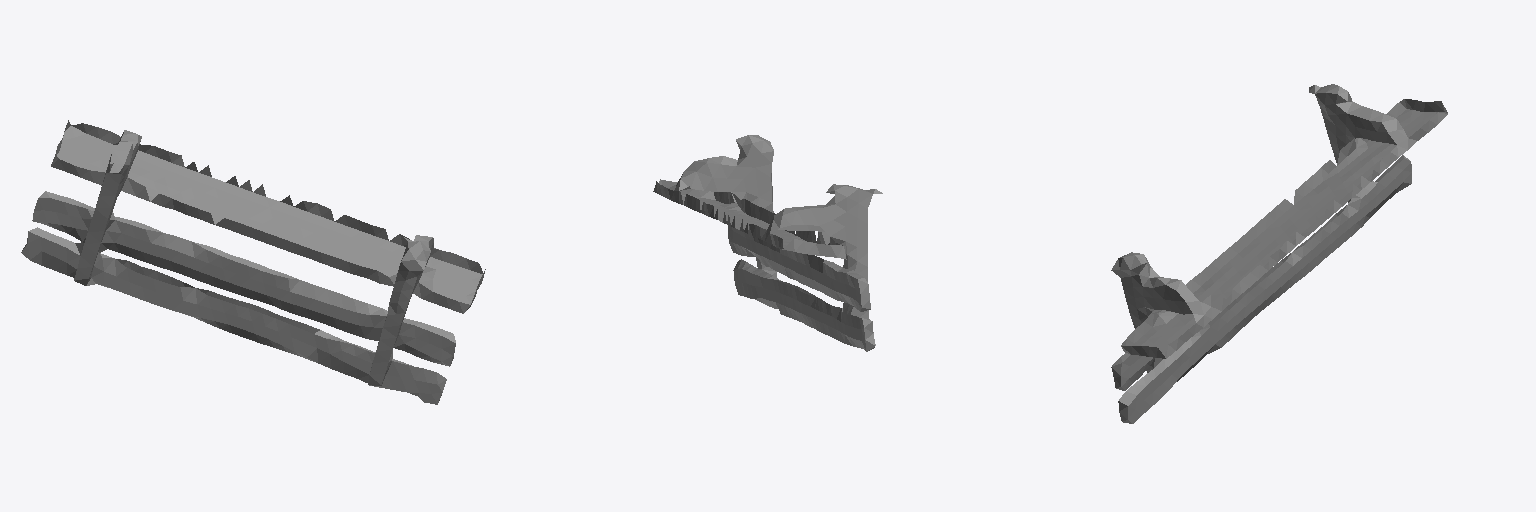
File: parkbankjeLowPolyUnwrapped.obj
3 renders of one model, left to right at view 1: azimuth 30°, elevation 25°; view 2: azimuth 150°, elevation 25°; view 3: azimuth 270°, elevation 25°, orthographic.
Visible parts, largest first — view 1: default; view 2: default; view 3: default.
Boxes of the visible parts, x1,y1,x2,y2 form: default: [21, 120, 485, 404]; default: [653, 135, 882, 351]; default: [1111, 84, 1447, 423].
Size of the model in its own units: 2.7 by 1.77 by 2.3.